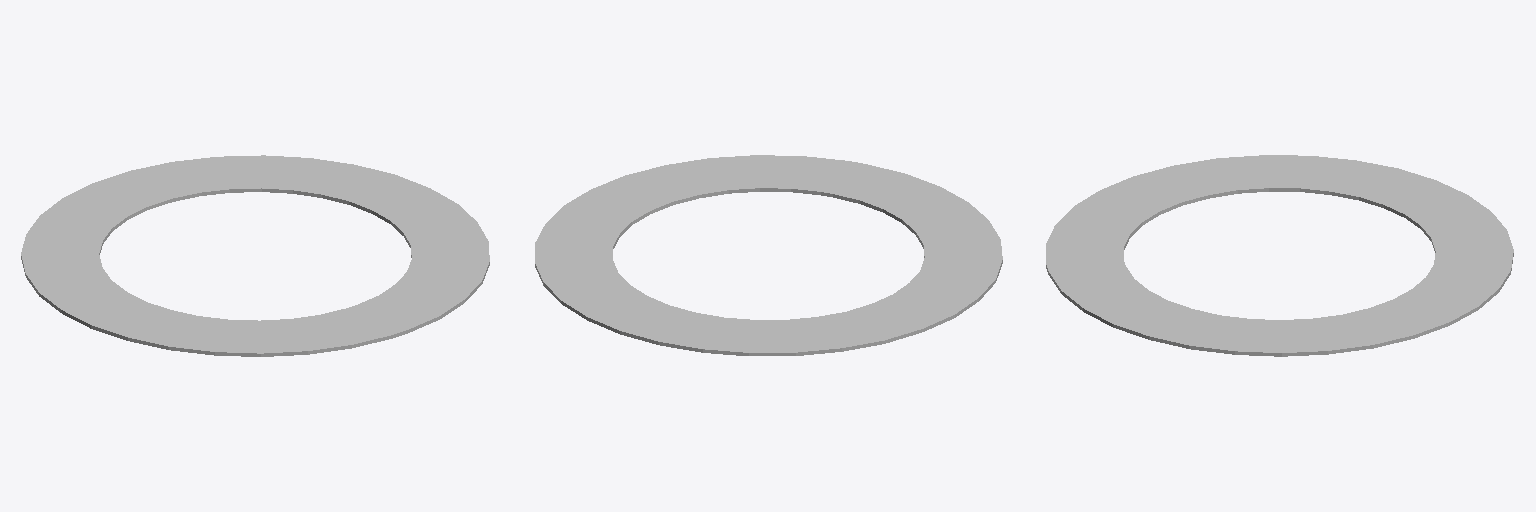
The model's file is ring.obj.
3 views of the same model, side by side, from view 1: azimuth 30°, elevation 25°; view 2: azimuth 150°, elevation 25°; view 3: azimuth 270°, elevation 25° (orthographic).
Visible parts, largest first — view 1: Cube; view 2: Cube; view 3: Cube.
Part boxes in pixels (bbox=[...]): Cube: bbox=[21, 155, 489, 356]; Cube: bbox=[535, 155, 1002, 355]; Cube: bbox=[1046, 155, 1513, 356].
Bounding box in the file's own units: 23.94 × 0.2 × 23.89.